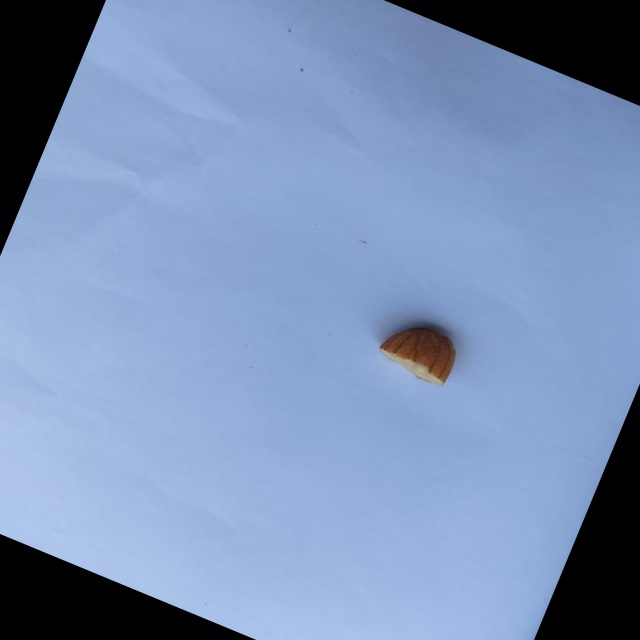grade4: (365, 303, 473, 396)
